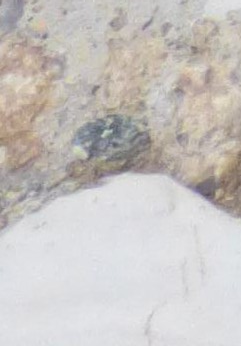Spalling: (1, 1, 241, 234)
